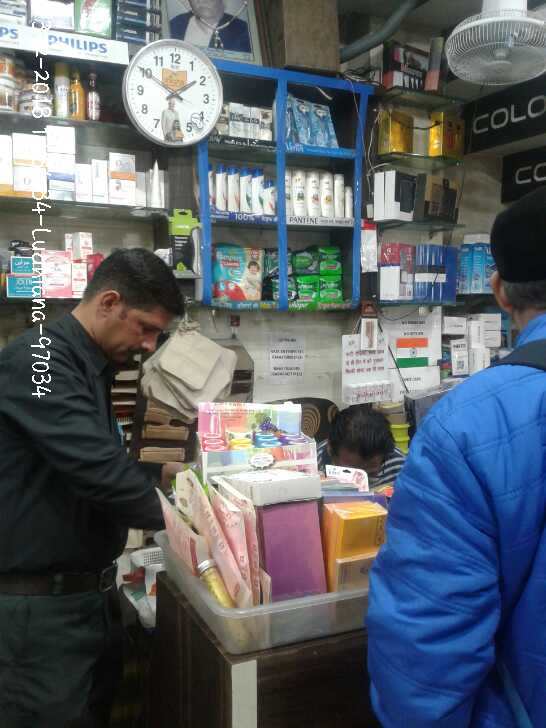venus: (297, 97, 317, 147), (317, 105, 334, 147), (284, 97, 297, 138)
